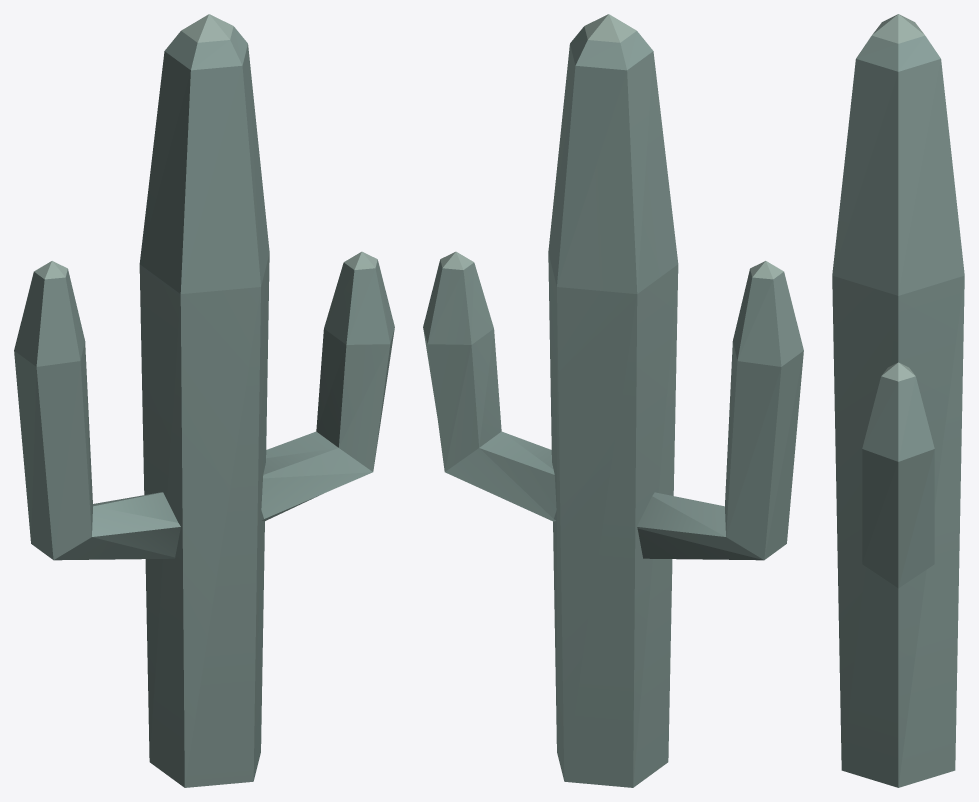
File: saguaro.lod2.glb
3 renders of one model, left to right at view 1: azimuth 30°, elevation 25°; view 2: azimuth 150°, elevation 25°; view 3: azimuth 270°, elevation 25°, orthographic.
Bounding box in the file's own units: 2.57 × 4.98 × 0.7987.
